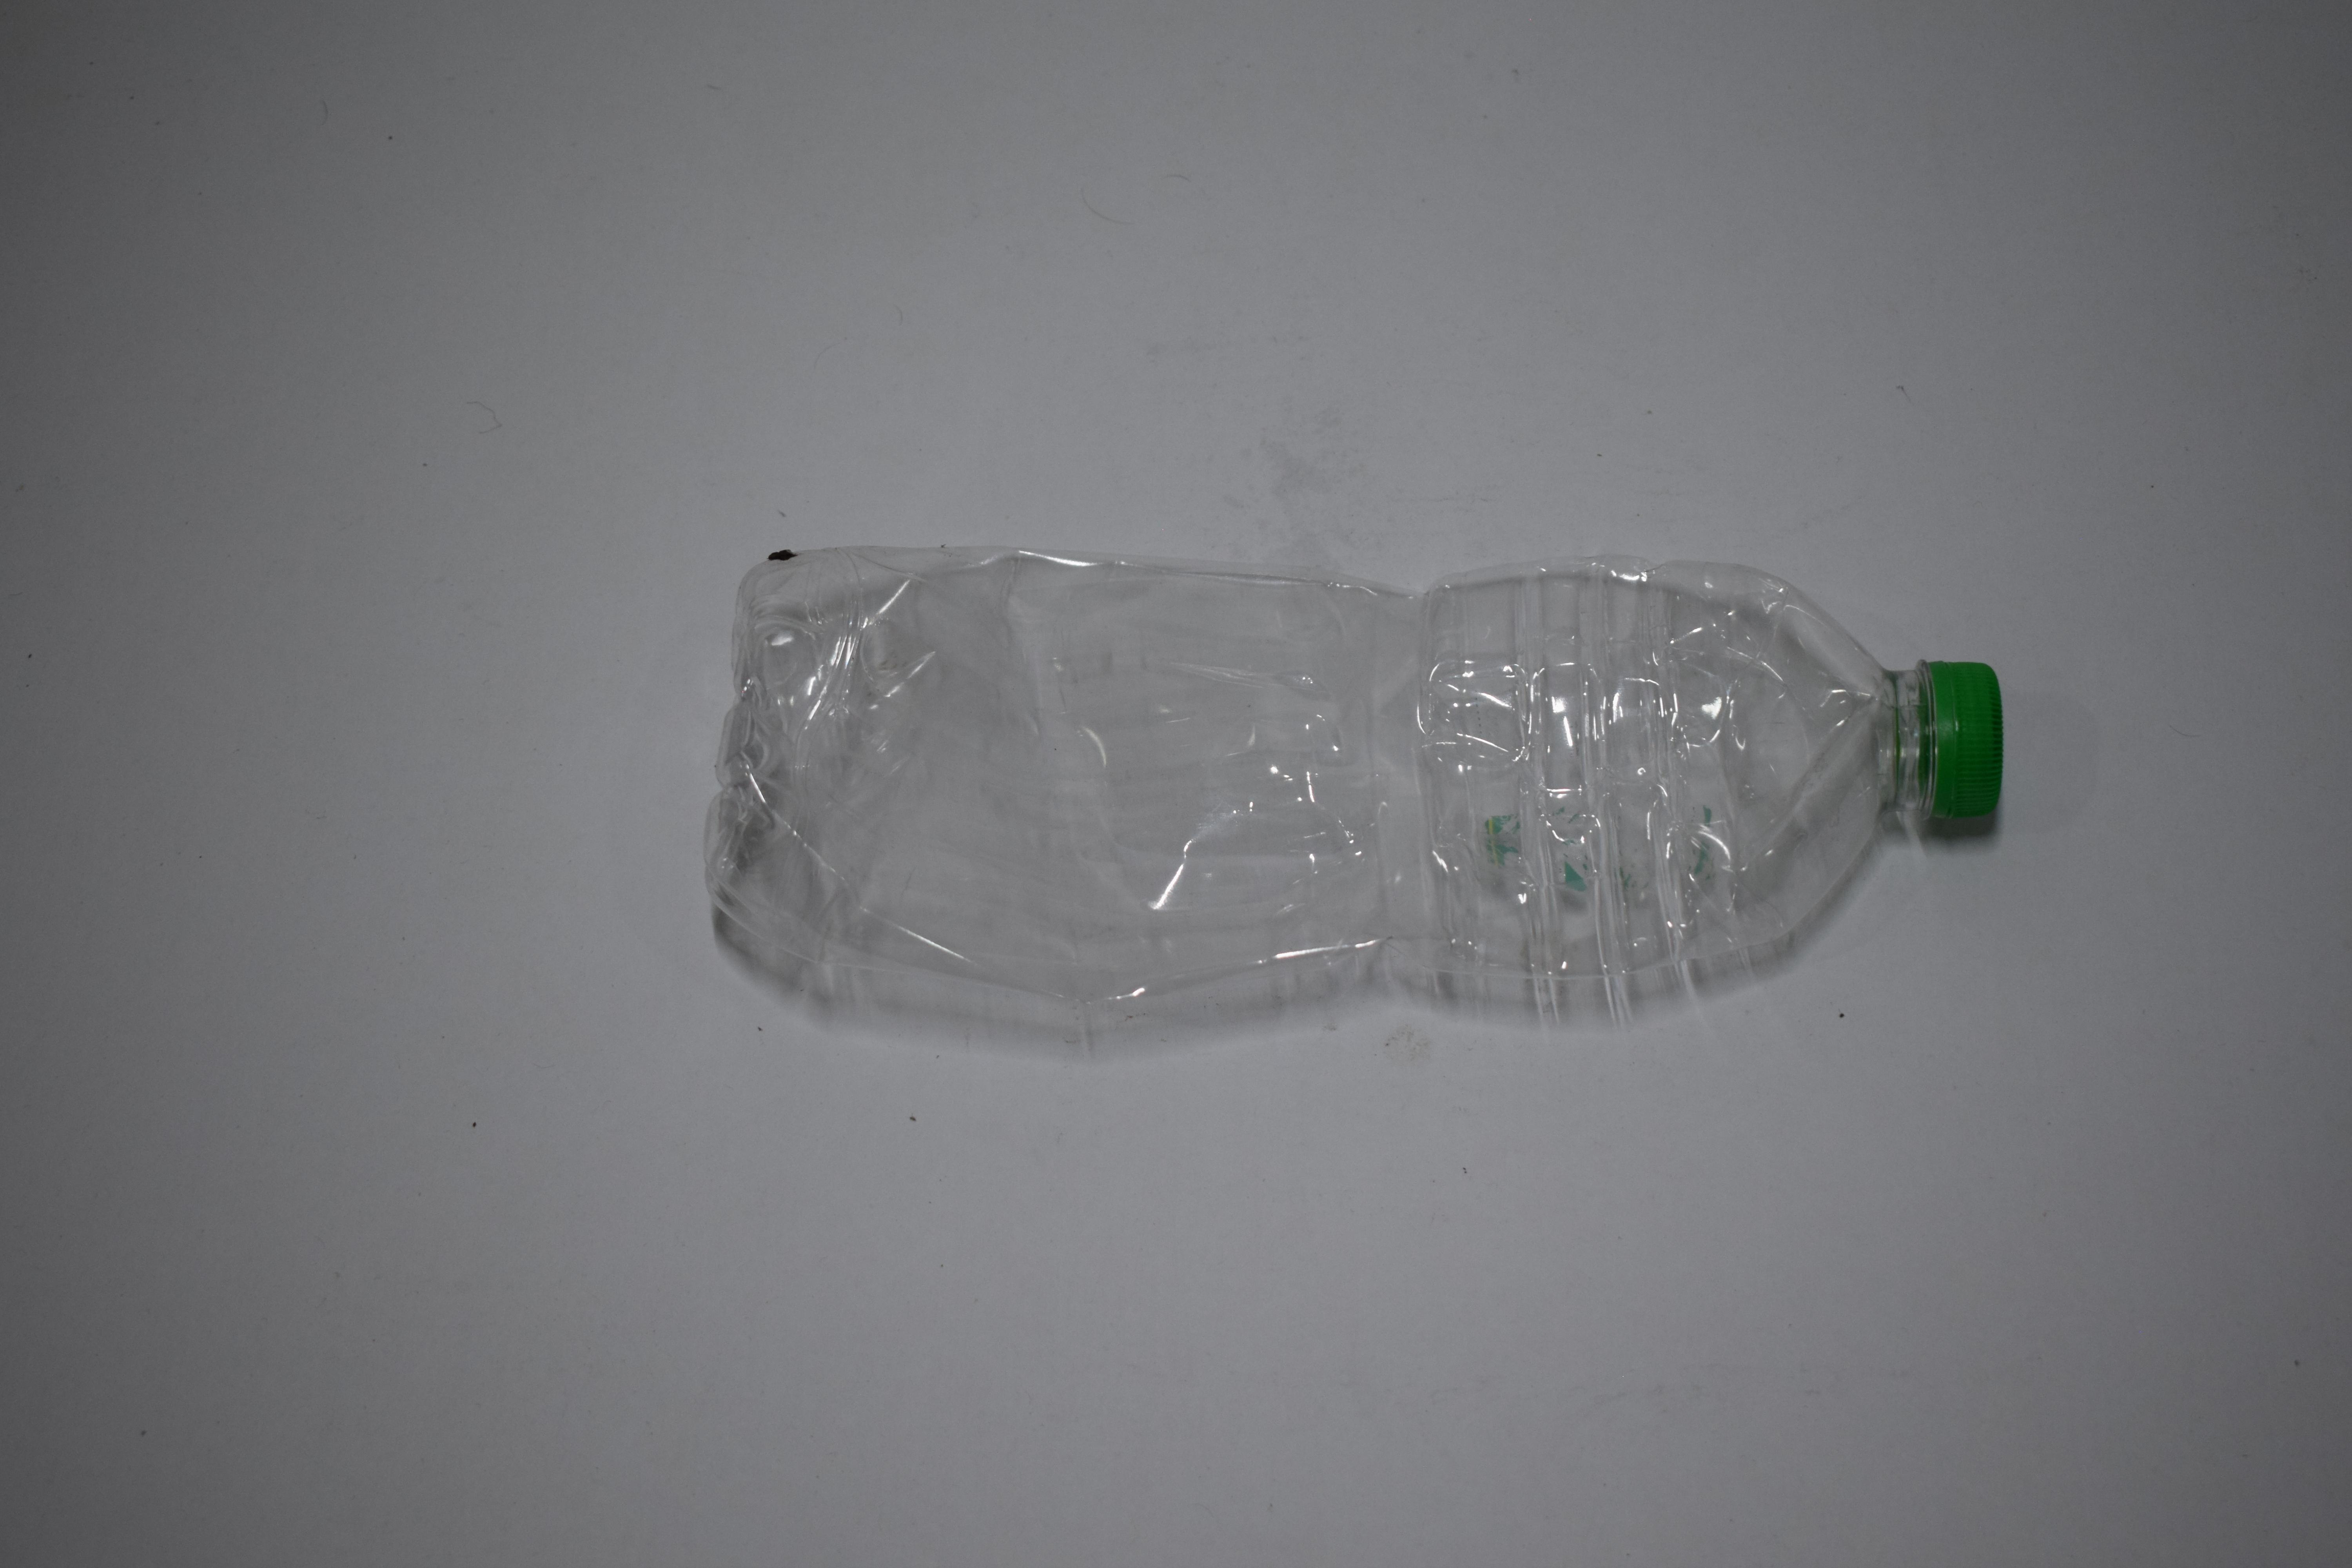bottle: (95, 0, 240, 259)
